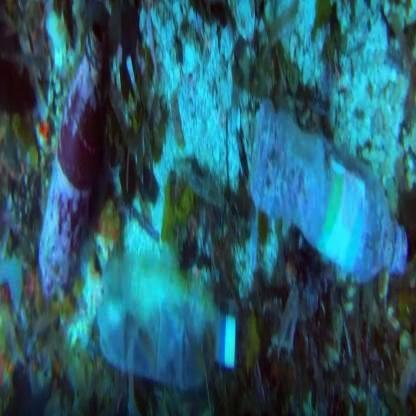gbottle: (53, 47, 102, 286)
pbottle: (252, 110, 416, 318), (83, 245, 257, 400)
